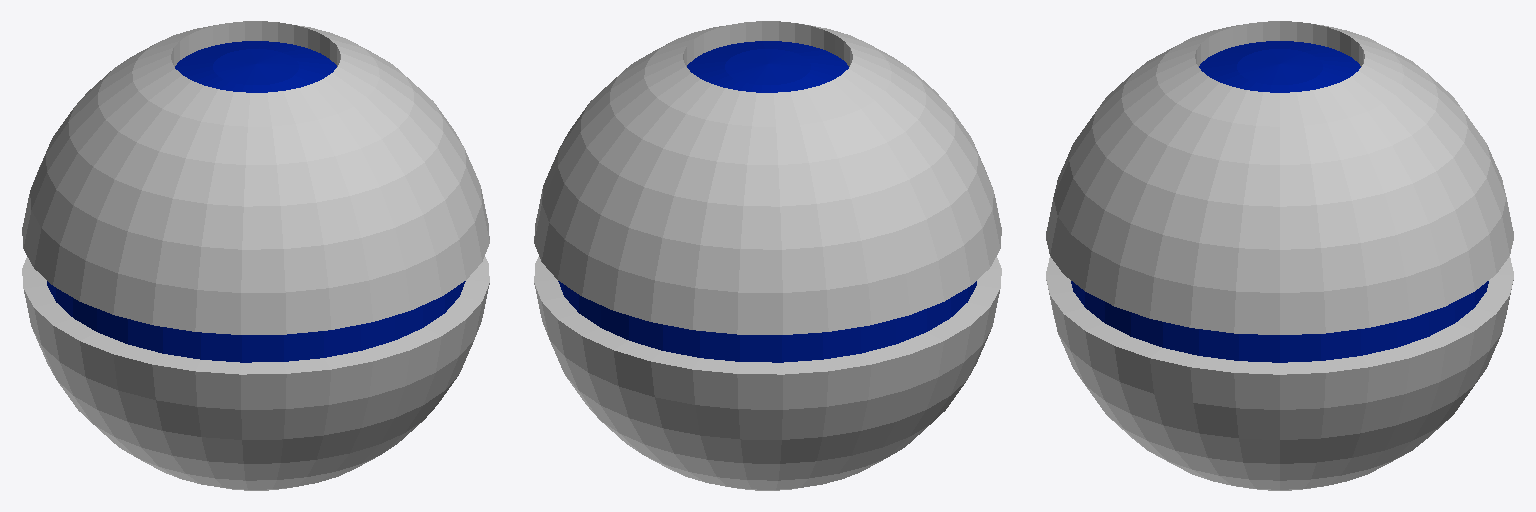
File: RedBall.obj
The picture shows the model from 3 angles: view 1: azimuth 30°, elevation 25°; view 2: azimuth 150°, elevation 25°; view 3: azimuth 270°, elevation 25°; orthographic projection.
Parts seen in each view (by area): view 1: Sphere; view 2: Sphere; view 3: Sphere.
Boxes of the visible parts, x1=… form: Sphere: x1=22, y1=21, x2=489, y2=490; Sphere: x1=534, y1=21, x2=1001, y2=490; Sphere: x1=1046, y1=21, x2=1513, y2=490.
Size of the model in its own units: 1.99 by 1.86 by 1.99.